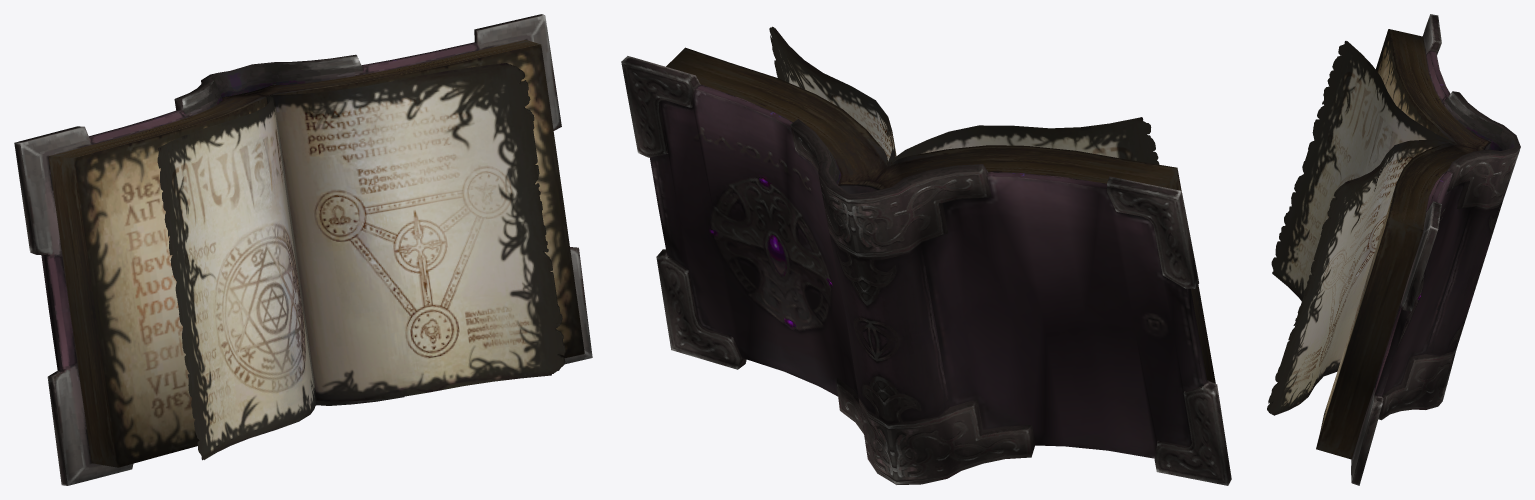
3 views of the same model, side by side, from view 1: azimuth 30°, elevation 25°; view 2: azimuth 150°, elevation 25°; view 3: azimuth 270°, elevation 25° (orthographic). The views are drawn at different scales.
Visible parts, largest first — view 1: Bone001; view 2: Bone001; view 3: Bone001.
Boxes of the visible parts, x1,y1,x2,y2 form: Bone001: (14, 14, 592, 485); Bone001: (621, 26, 1231, 485); Bone001: (1267, 14, 1520, 485).
Size of the model in its own units: 75.4 by 48.04 by 38.78.
